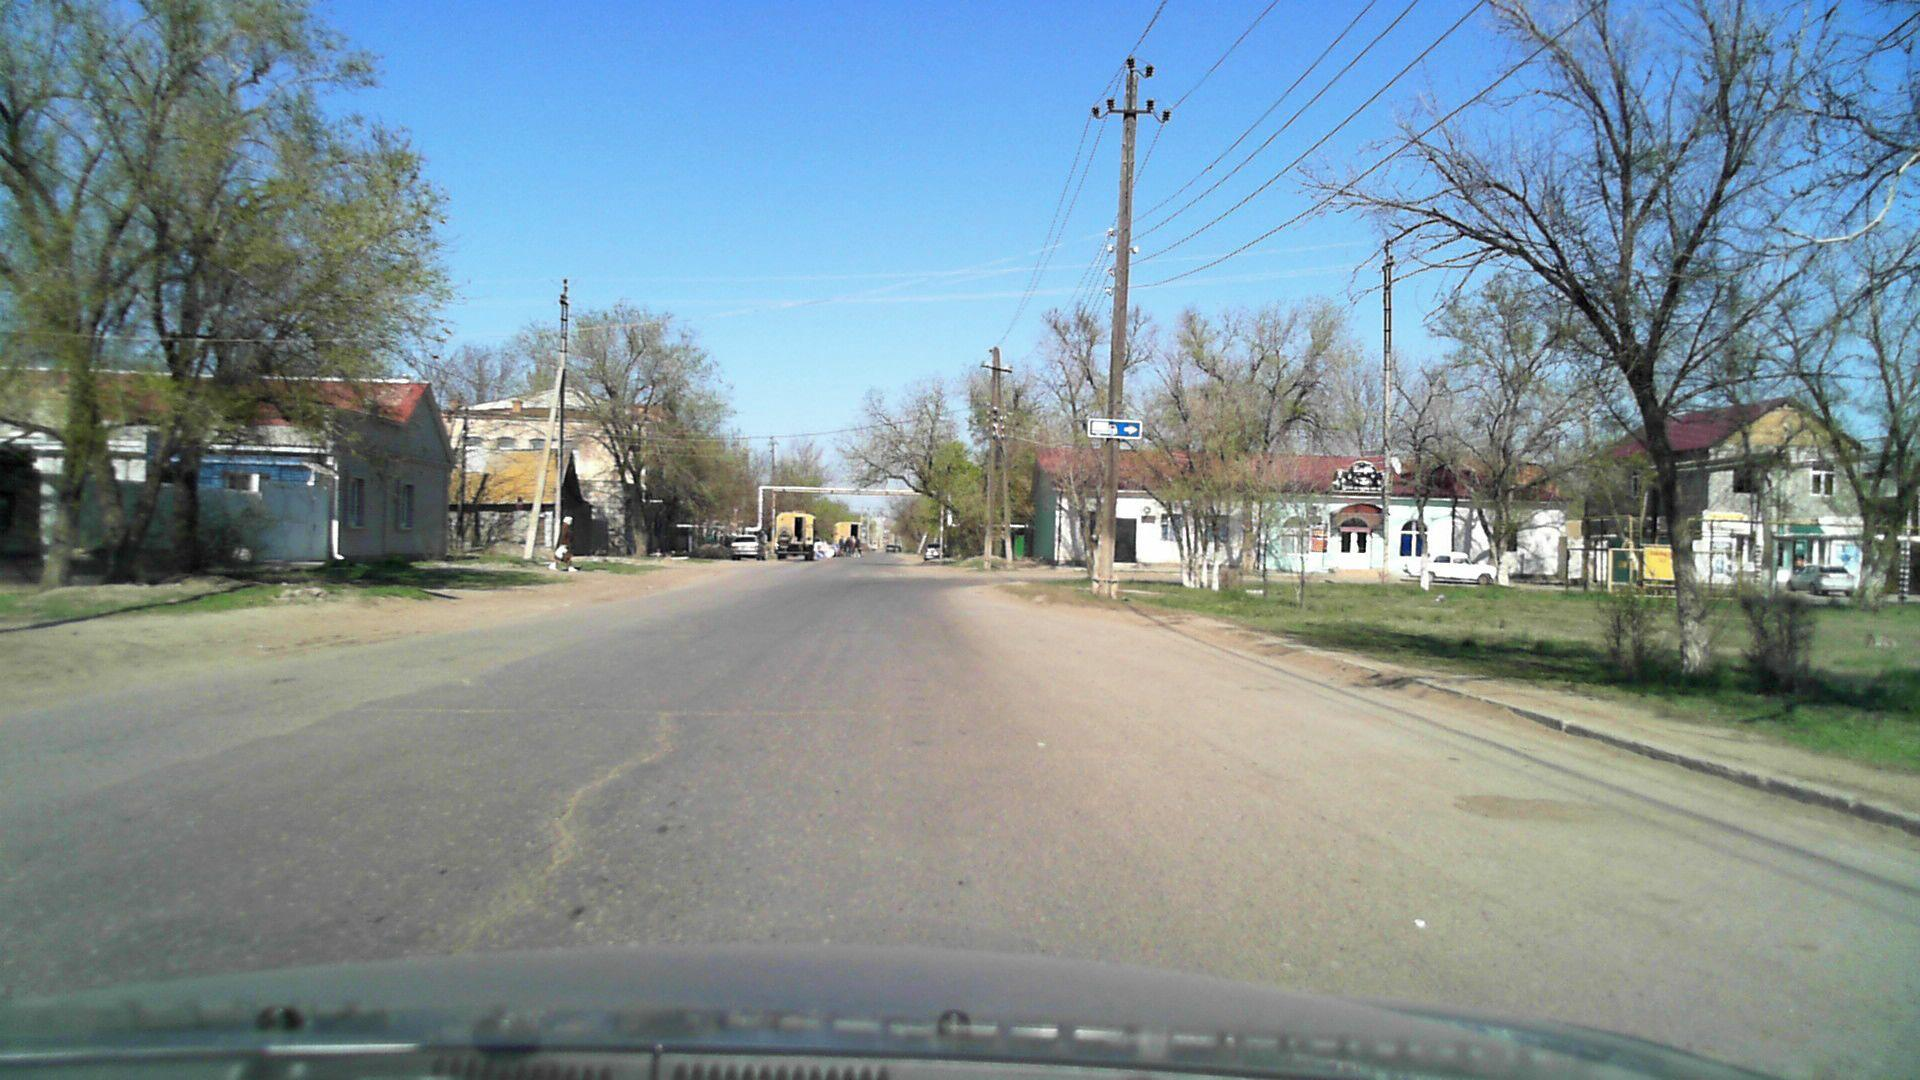6_15_2: (1086, 417, 1144, 440)
